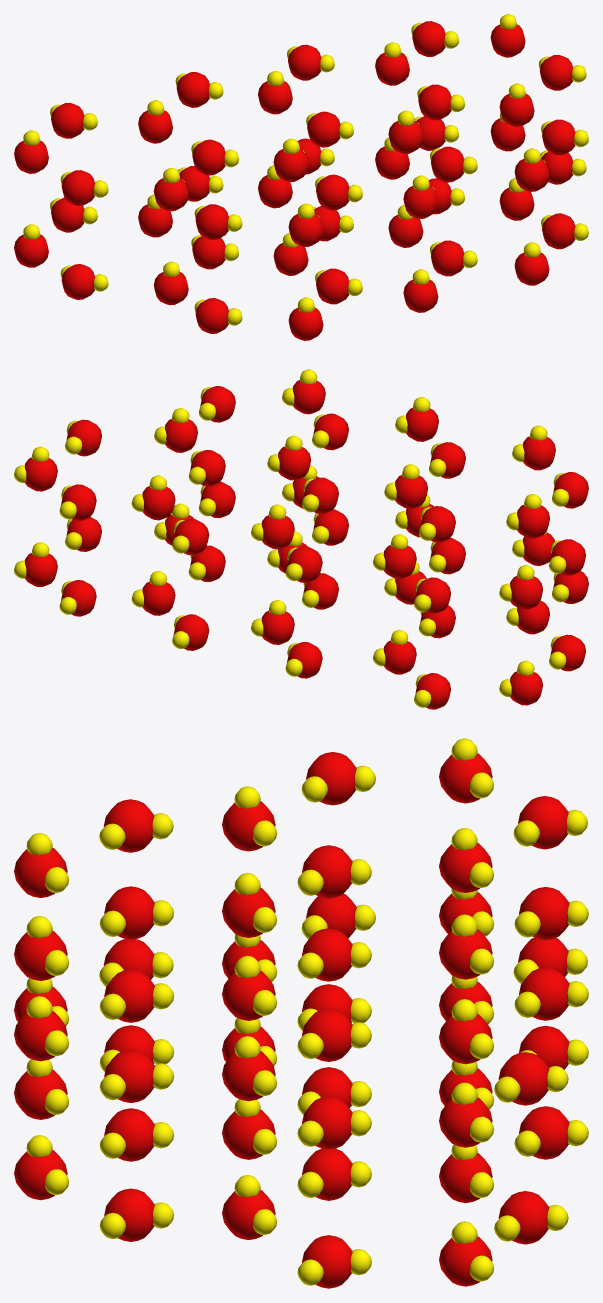
The model's file is ice_molecule.fbx.
3 renders of one model, top to bottom at view 1: azimuth 30°, elevation 25°; view 2: azimuth 150°, elevation 25°; view 3: azimuth 270°, elevation 25°, orthographic. The views are drawn at different scales.
Parts seen in each view (by area): view 1: sphere185, sphere163, sphere242, sphere260, sphere272, sphere193, sphere167, sphere181, sphere232, sphere91, sphere238, sphere220 (+38 smaller); view 2: sphere157, sphere178, sphere283, sphere292, sphere160, sphere166, sphere190, sphere235, sphere286, sphere310, sphere316, sphere319 (+34 smaller); view 3: sphere185, sphere272, sphere295, sphere163, sphere181, sphere313, sphere223, sphere232, sphere238, sphere193, sphere220, sphere229 (+38 smaller).
Boxes of the visible parts, x1,y1,x2,y2 form: sphere185: (542, 119, 575, 155); sphere163: (192, 139, 225, 175); sphere242: (316, 268, 349, 304); sphere260: (431, 240, 464, 276); sphere272: (542, 213, 575, 249); sphere193: (418, 84, 451, 120); sphere167: (431, 146, 464, 182); sphere181: (307, 111, 340, 147); sphere232: (539, 55, 573, 90); sphere91: (316, 174, 349, 210); sphere238: (412, 21, 445, 56); sphere220: (288, 44, 321, 80); sphere157: (517, 504, 549, 538); sphere178: (278, 446, 311, 480); sphere283: (383, 640, 416, 674); sphere292: (142, 581, 175, 615); sphere160: (395, 475, 427, 508); sphere166: (406, 408, 438, 441); sphere190: (165, 419, 197, 452); sphere235: (24, 457, 57, 491); sphere286: (261, 610, 294, 644); sphere310: (24, 553, 57, 586); sphere316: (510, 576, 542, 609); sphere319: (510, 671, 542, 705); sphere185: (104, 1049, 154, 1102); sphere272: (104, 1188, 154, 1241); sphere295: (519, 1106, 569, 1159); sphere163: (302, 845, 352, 898); sphere181: (302, 928, 352, 981); sphere313: (498, 1191, 549, 1244); sphere223: (306, 752, 356, 805); sphere232: (302, 1096, 352, 1149); sphere238: (498, 1052, 549, 1105); sphere193: (302, 1008, 352, 1061); sphere220: (519, 967, 569, 1020); sphere229: (518, 796, 568, 849).
Bounding box in the file's own units: 48.83 × 12.2 × 31.74.
